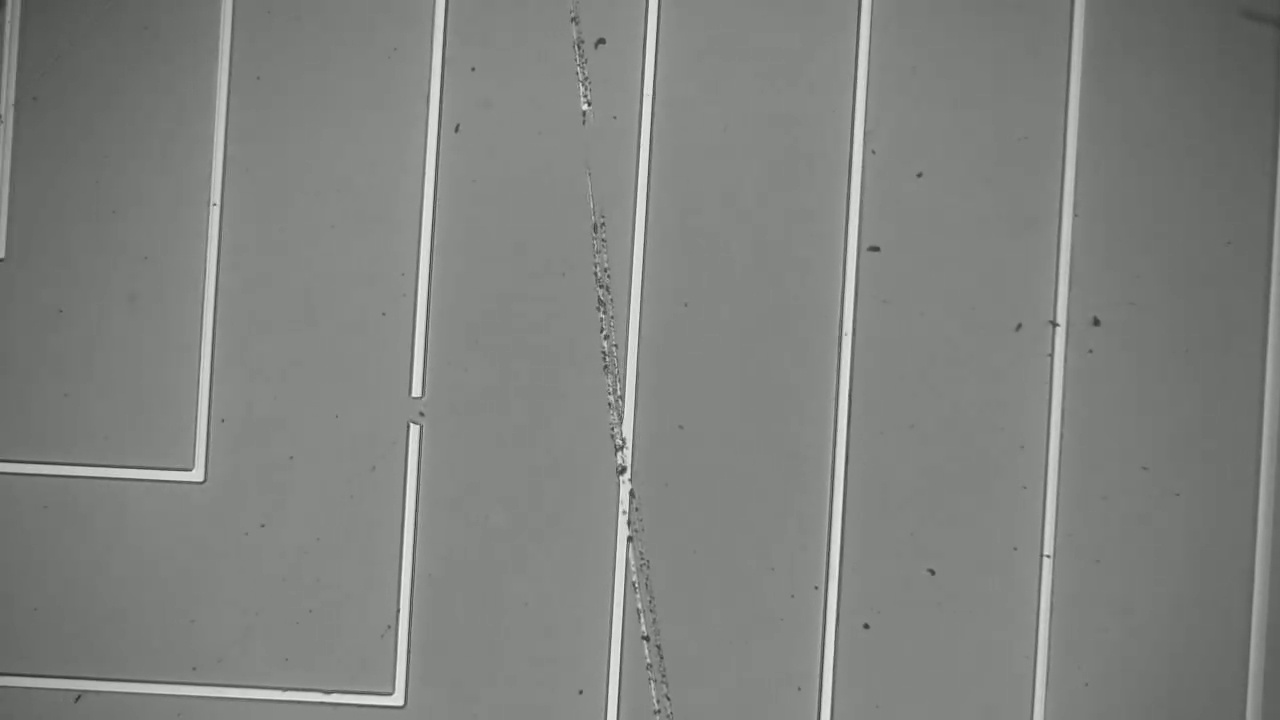open: (395, 377, 436, 444)
scratch: (555, 1, 670, 707)
